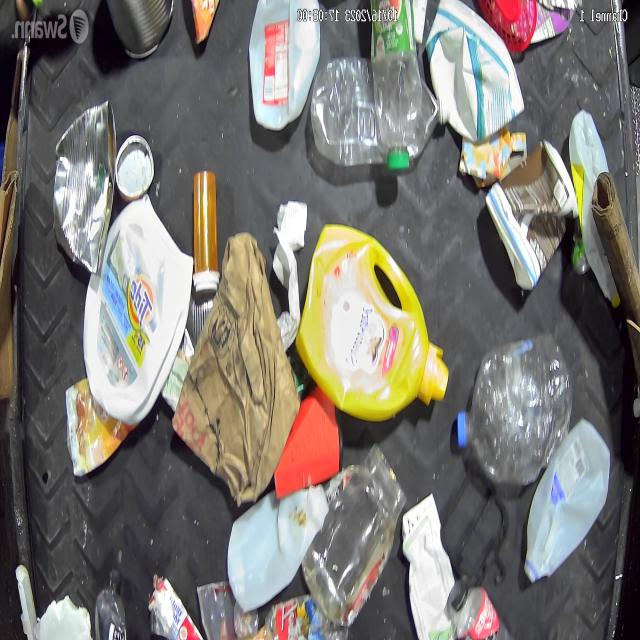can: (52, 97, 118, 277), (106, 0, 174, 59)
milk_jug: (526, 416, 612, 580), (227, 477, 329, 606), (249, 0, 318, 125)
non_white_jug: (300, 219, 446, 414)
plastic_bottle: (456, 332, 570, 479), (314, 46, 450, 168), (370, 4, 420, 159), (94, 566, 126, 640)
